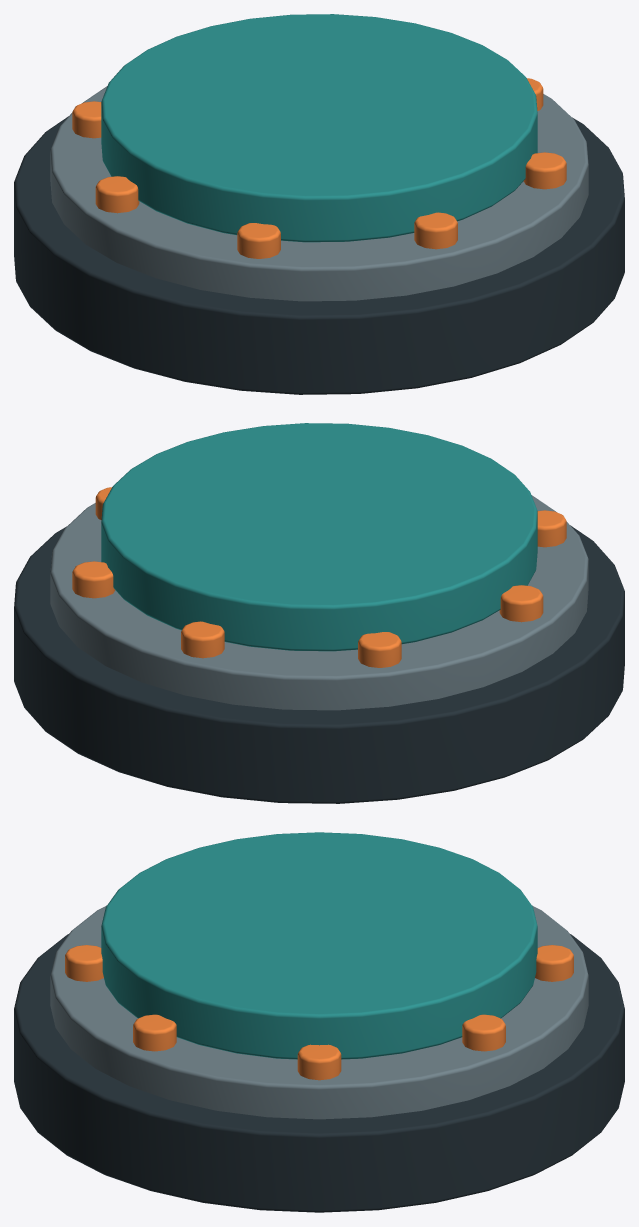
The model's file is SM_Laser_Mount.fbx.
The picture shows the model from 3 angles, top to bottom: view 1: azimuth 30°, elevation 25°; view 2: azimuth 150°, elevation 25°; view 3: azimuth 270°, elevation 25°; orthographic projection.
Parts seen in each view (by area): view 1: SM_Laser_Mount; view 2: SM_Laser_Mount; view 3: SM_Laser_Mount.
Boxes of the visible parts, x1,y1,x2,y2 form: SM_Laser_Mount: [14, 14, 624, 394]; SM_Laser_Mount: [14, 423, 624, 803]; SM_Laser_Mount: [14, 832, 624, 1212].
Size of the model in its own units: 84 by 84 by 24.5.
